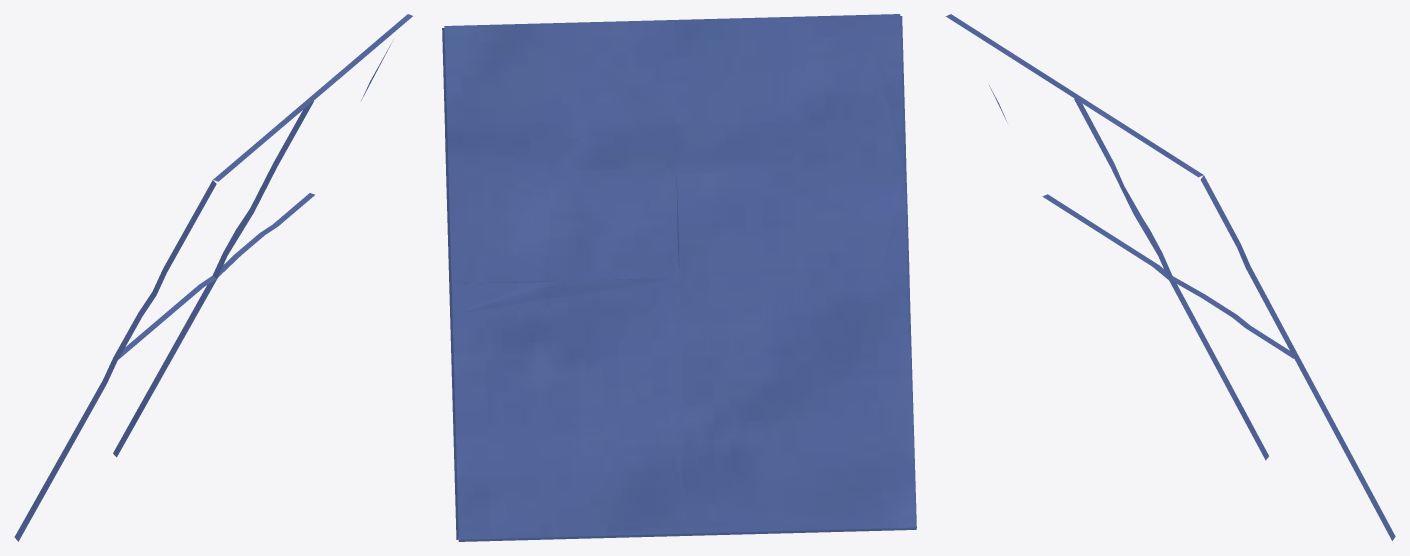
3 renders of one model, left to right at view 1: azimuth 30°, elevation 25°; view 2: azimuth 150°, elevation 25°; view 3: azimuth 270°, elevation 25°, orthographic. The views are drawn at different scales.
Size of the model in its own units: 39356 by 35388 by 34430.
1 material, 1 textured.
